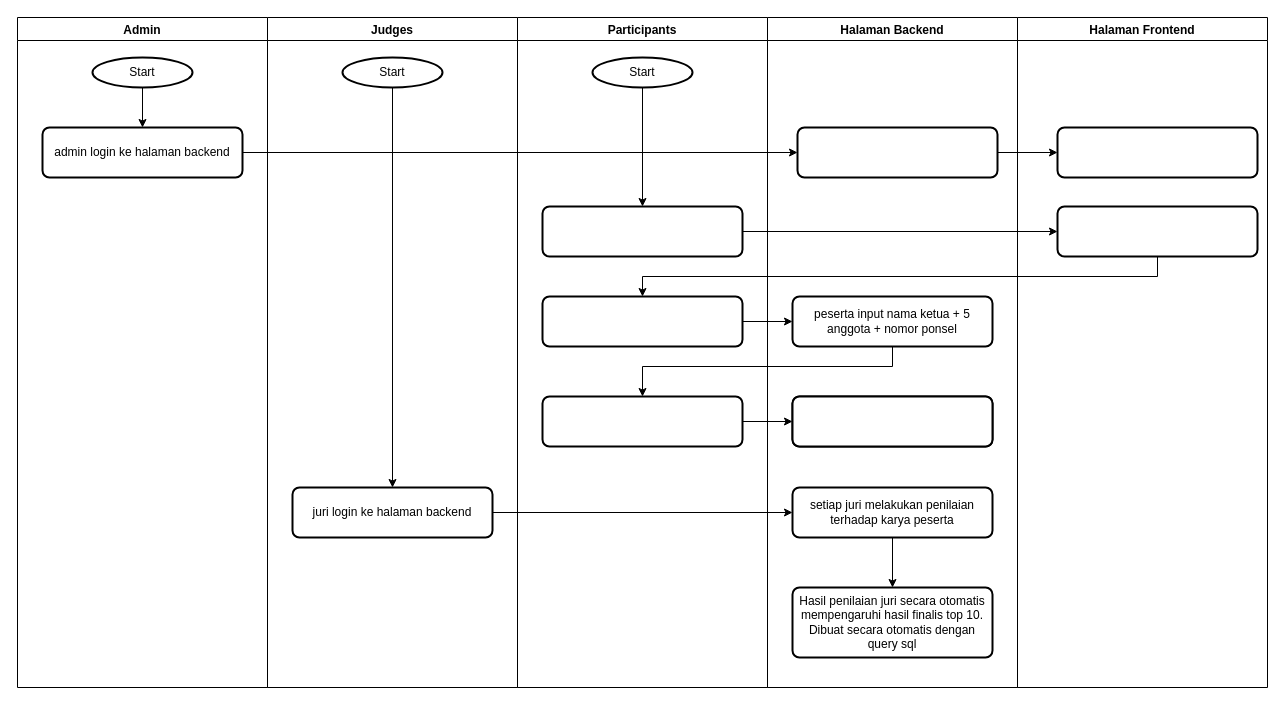
Image size: 1285x705. Some labels were removed from this diagram. The shapes that lost their labels are listed below. From the top down, each one's centre as x and y in pixels, then its label:
At pixel 897 152: "admin update informasi tentang perlombaan asean hub 2026".
At pixel 1157 152: "tersedia informasi di website http://aseanhub.jakarta.go.id/".
At pixel 642 231: "perserta membuka website aseanhub".
At pixel 1157 231: "Perseta melakukan pendaftaran dengan input email + password".
At pixel 642 321: "Peserta melangkapi registrasi".
At pixel 642 421: "perserta unggah hasil karyanya".
At pixel 892 421: "peserta upload slide presentasi, poster, vidio.".
